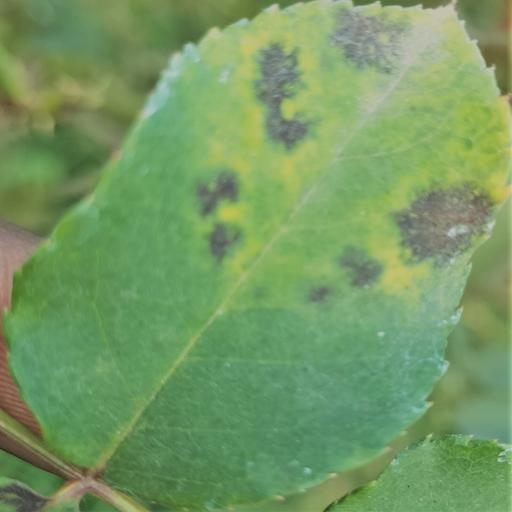black_spot: (4, 0, 508, 510)
